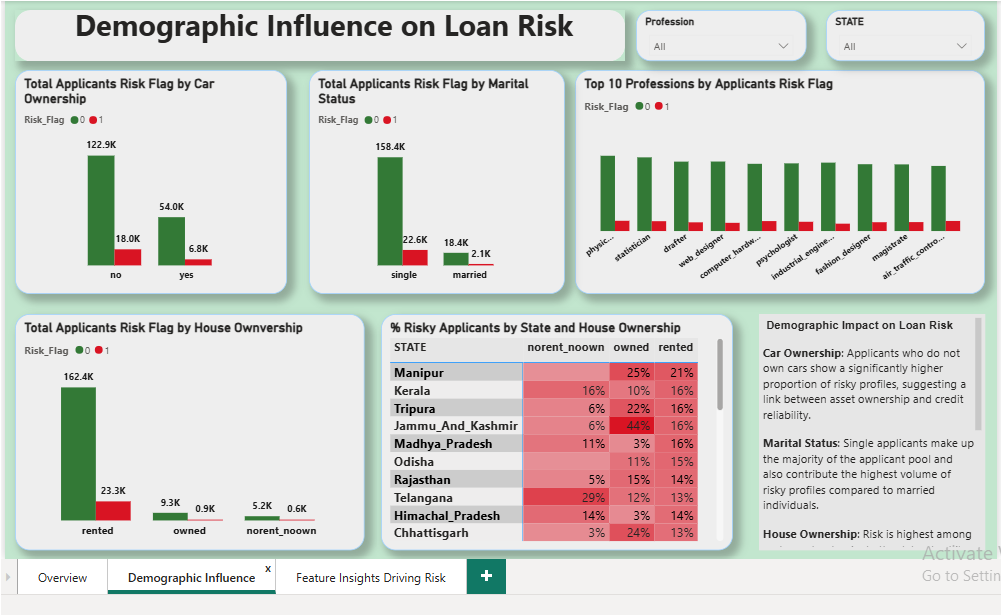

The page's visual inventory and layout, read from the dashboard file:
{"tool":"powerbi","page":{"name":"Demographic Influence","canvas":[1280,720],"ordinal":1},"visuals":[{"type":"shape","box":[12.4,11,787.3,66.1],"z":0},{"type":"textbox","box":[12.4,0,761.1,64.7],"z":1000},{"type":"pivotTable","title":"% Risky Applicants by State and House Ownership","fields":{"Rows":["train_cleaned.STATE"],"Columns":["train_cleaned.House_Ownership"],"Values":["train_cleaned.Risky Percentage"]},"box":[484.7,403.9,453.5,304.7],"z":2000},{"type":"clusteredColumnChart","title":"Total Applicants Risk Flag by Car Ownership","fields":{"Series":["train_cleaned.Risk_Flag"],"Y":["CountNonNull(train_cleaned.Id)"],"Category":["train_cleaned.Car_Ownership"]},"box":[12.8,89.3,351.5,289.1],"z":3000},{"type":"clusteredColumnChart","title":"Top 10 Professions by Applicants Risk Flag","fields":{"Y":["CountNonNull(train_cleaned.Risk_Flag)"],"Series":["train_cleaned.Risk_Flag"],"Category":["train_cleaned.Profession"]},"box":[735.6,89.3,528.7,289.1],"z":4000},{"type":"clusteredColumnChart","title":"Total Applicants Risk Flag by House Ownvership","fields":{"Category":["train_cleaned.House_Ownership"],"Series":["train_cleaned.Risk_Flag"],"Y":["CountNonNull(train_cleaned.Id)"]},"box":[12.8,403.9,450.7,304.7],"z":5000},{"type":"slicer","title":"STATE","fields":{"Values":["train_cleaned.STATE"]},"box":[1059.4,11.6,205.2,65.8],"z":6000},{"type":"slicer","title":"Profession","fields":{"Values":["train_cleaned.Profession"]},"box":[814.8,11,220.2,66.1],"z":7000},{"type":"textbox","box":[972.3,403.9,292,304.7],"z":8000},{"type":"clusteredColumnChart","title":"Total Applicants Risk Flag by Marital Status","fields":{"Series":["train_cleaned.Risk_Flag"],"Y":["CountNonNull(train_cleaned.Id)"],"Category":["train_cleaned.Married/Single"]},"box":[392.6,89.3,330.2,289.1],"z":9000}]}

Visuals, with their boxes on the page's 1280x720 design canvas (x1, y1, x2, y2). These are canvas units, not pixel positions in the 1002x616 screenshot, which may show the page scaled, cropped or inside an application window:
shape: pyautogui.locateOnScreen(12, 11, 800, 77)
textbox: pyautogui.locateOnScreen(12, 0, 774, 65)
"% Risky Applicants by State and House Ownership" pivotTable: pyautogui.locateOnScreen(485, 404, 938, 709)
"Total Applicants Risk Flag by Car Ownership" clusteredColumnChart: pyautogui.locateOnScreen(13, 89, 364, 378)
"Top 10 Professions by Applicants Risk Flag" clusteredColumnChart: pyautogui.locateOnScreen(736, 89, 1264, 378)
"Total Applicants Risk Flag by House Ownvership" clusteredColumnChart: pyautogui.locateOnScreen(13, 404, 464, 709)
"STATE" slicer: pyautogui.locateOnScreen(1059, 12, 1265, 77)
"Profession" slicer: pyautogui.locateOnScreen(815, 11, 1035, 77)
textbox: pyautogui.locateOnScreen(972, 404, 1264, 709)
"Total Applicants Risk Flag by Marital Status" clusteredColumnChart: pyautogui.locateOnScreen(393, 89, 723, 378)
